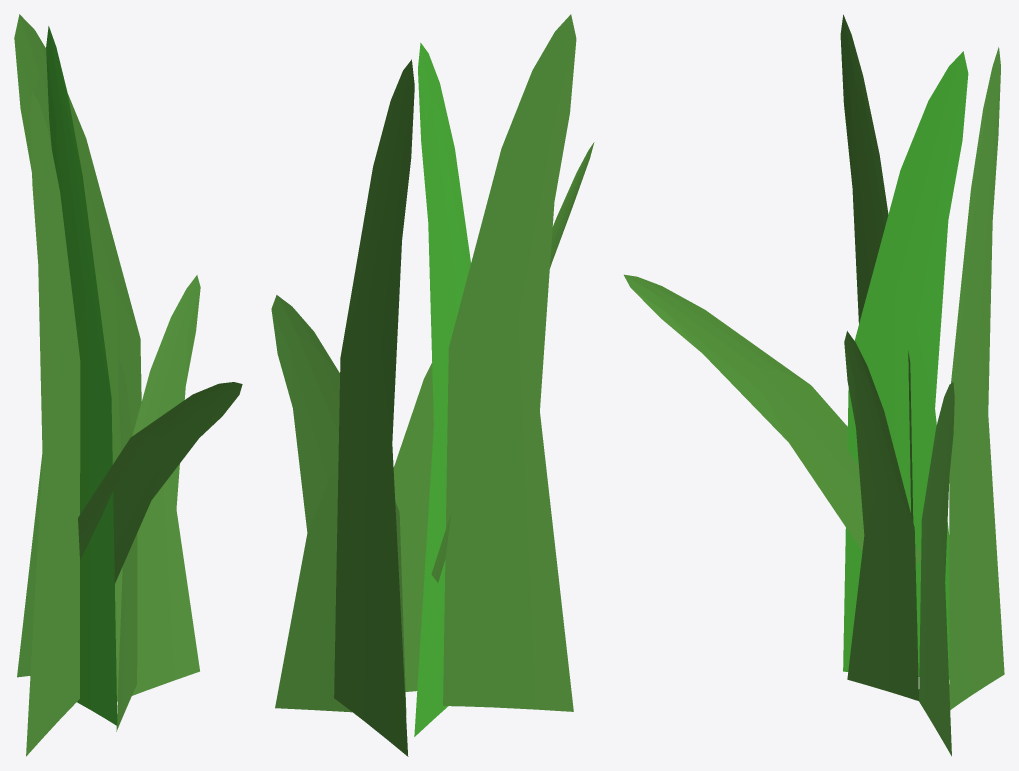
Rendered from Grass.glb.
3 views of the same model, side by side, from view 1: azimuth 30°, elevation 25°; view 2: azimuth 150°, elevation 25°; view 3: azimuth 270°, elevation 25° (orthographic). The views are drawn at different scales.
Visible parts, largest first — view 1: Plane.001, Plane, Plane.002, Plane.003, Plane.005, Plane.004; view 2: Plane.001, Plane.003, Plane.002, Plane, Plane.004, Plane.005; view 3: Plane, Plane.003, Plane.004, Plane.005, Plane.002, Plane.001.
Boxes of the visible parts, <box> form: Plane.001: <box>26,92,80,756</box>; Plane: <box>46,26,117,725</box>; Plane.002: <box>115,275,200,701</box>; Plane.003: <box>14,14,141,677</box>; Plane.005: <box>78,382,242,583</box>; Plane.004: <box>116,361,137,731</box>; Plane.001: <box>443,14,576,711</box>; Plane.003: <box>334,59,414,756</box>; Plane.002: <box>271,295,406,715</box>; Plane: <box>414,42,470,736</box>; Plane.004: <box>393,362,433,691</box>; Plane.005: <box>431,142,594,582</box>; Plane: <box>843,51,968,679</box>; Plane.003: <box>949,47,1004,709</box>; Plane.004: <box>844,331,918,700</box>; Plane.005: <box>624,274,921,564</box>; Plane.002: <box>919,382,954,756</box>; Plane.001: <box>840,14,913,521</box>.
Bounding box in the file's own units: 1.12 × 3.12 × 1.69.
